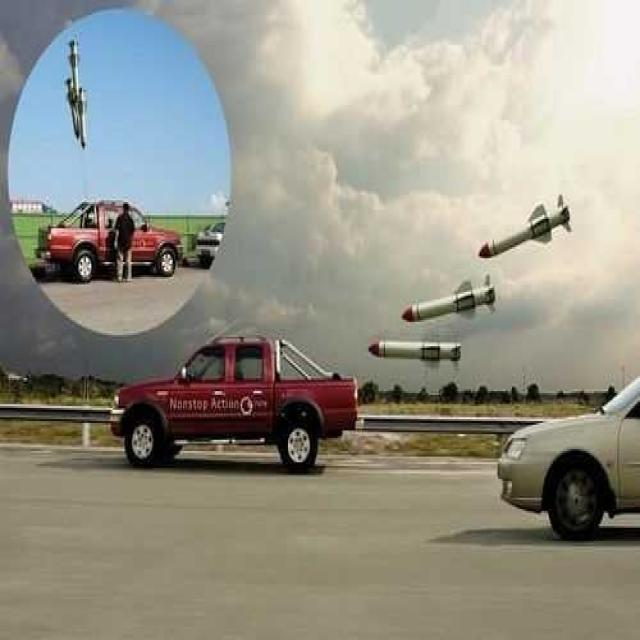missile: (478, 193, 576, 265), (403, 274, 498, 324), (60, 34, 93, 161), (367, 337, 463, 376)
